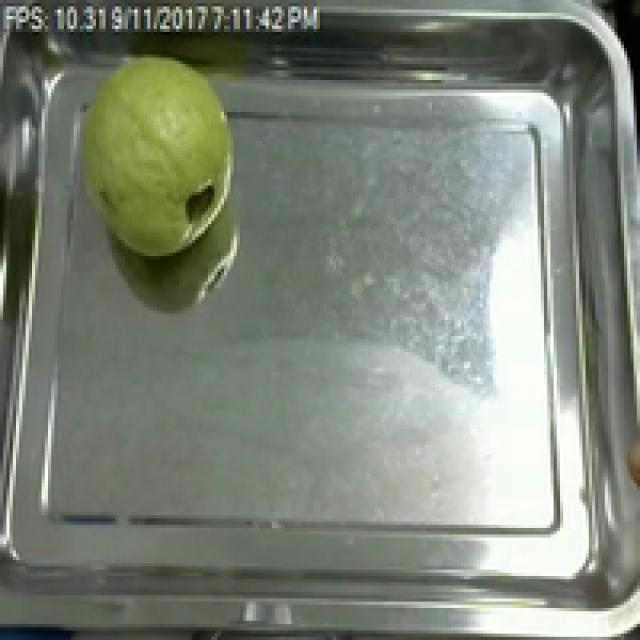Fruit: (64, 48, 250, 269)
